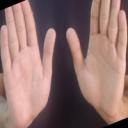hand: (65, 0, 127, 124), (0, 0, 56, 127)
